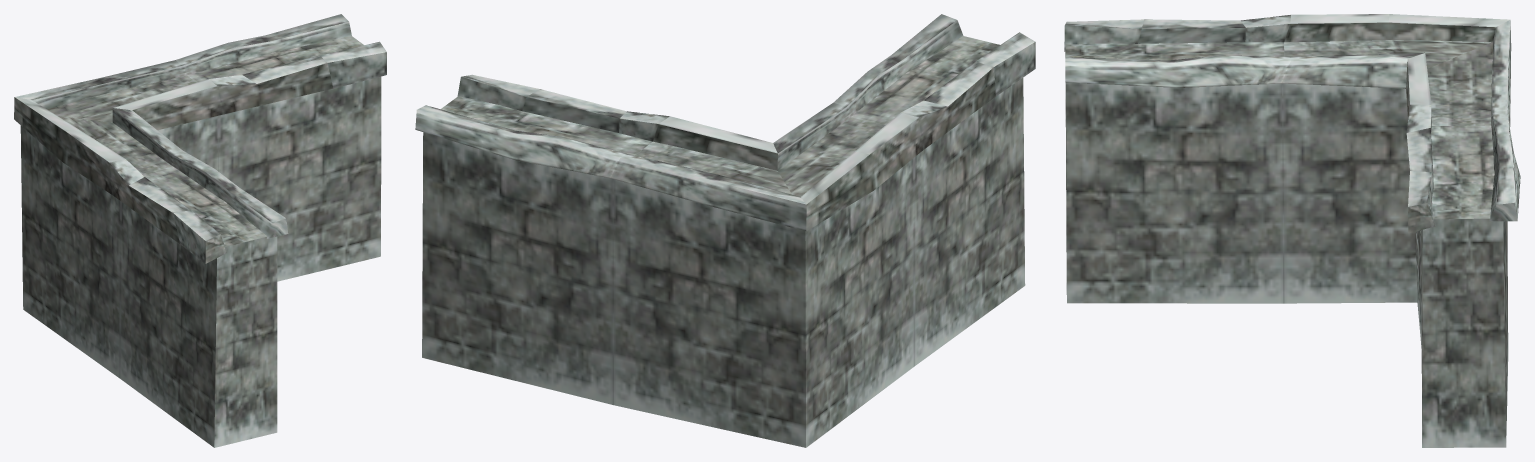
File: S_Build_Snowland096.FBX
The picture shows the model from 3 angles, left to right: view 1: azimuth 30°, elevation 25°; view 2: azimuth 150°, elevation 25°; view 3: azimuth 270°, elevation 25°; orthographic projection. The views are drawn at different scales.
Parts seen in each view (by area): view 1: S_Build_Snowland096; view 2: S_Build_Snowland096; view 3: S_Build_Snowland096.
Boxes of the visible parts, x1,y1,x2,y2 form: S_Build_Snowland096: (14, 14, 386, 447); S_Build_Snowland096: (415, 14, 1035, 447); S_Build_Snowland096: (1064, 14, 1520, 447).
Bounding box in the file's own units: 816 × 838 × 505.
